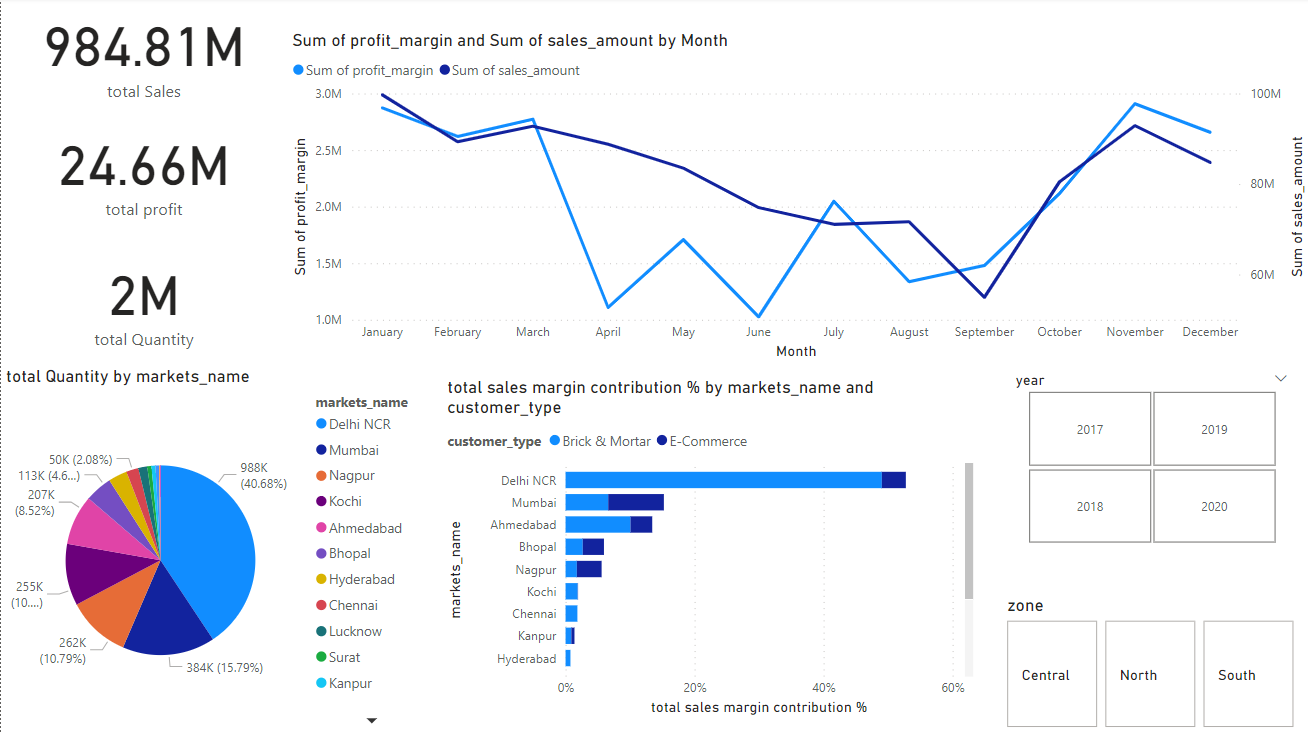

The page's visual inventory and layout, read from the dashboard file:
{"tool":"powerbi","page":{"name":"Basic Analysis","canvas":[1280,720],"ordinal":0},"visuals":[{"type":"card","fields":{"Values":["BaseTable.total Sales"]},"box":[0,0,280,105.7],"z":0},{"type":"card","fields":{"Values":["BaseTable.total Quantity"]},"box":[0,232.9,280,127.1],"z":1000},{"type":"pieChart","fields":{"Category":["sales markets.markets_name"],"Y":["BaseTable.total Quantity"]},"box":[0,360,421.4,360],"z":2000},{"type":"barChart","fields":{"Category":["sales markets.markets_name"],"Series":["sales customers.customer_type"],"Y":["BaseTable.total sales margin contribution %"]},"box":[431.4,371.4,524.3,335.7],"z":3000},{"type":"advancedSlicerVisual","fields":{"Values":["sales markets.zone"]},"box":[978.6,584.3,291.4,135.7],"z":4000},{"type":"slicer","fields":{"Values":["sales date.year"]},"box":[978.6,360,291.4,180],"z":5000},{"type":"lineChart","fields":{"Y":["Sum(sales transactions.profit_margin)"],"Y2":["Sum(sales transactions.sales_amount)"],"Category":["sales date.date.Variation.Date Hierarchy.Year","sales date.date.Variation.Date Hierarchy.Quarter","sales date.date.Variation.Date Hierarchy.Month","sales date.date.Variation.Date Hierarchy.Day"]},"box":[280,0,1000,327.1],"z":6000},{"type":"card","fields":{"Values":["BaseTable.total profit"]},"box":[0,105.7,280,127.1],"z":7000}]}

Visuals, with their boxes in screenshot pixels (x1, y1, x2, y2), scaled from the page's 1280x720 canvas onto the 1308x732 screenshot:
card - BaseTable.total Sales: [0,0,286,107]
card - BaseTable.total Quantity: [0,237,286,366]
pieChart - sales markets.markets_name x BaseTable.total Quantity: [0,366,431,731]
barChart - sales markets.markets_name x sales customers.customer_type: [441,378,977,719]
advancedSlicerVisual - sales markets.zone: [1000,594,1298,731]
slicer - sales date.year: [1000,366,1298,549]
lineChart - Sum(sales transactions.profit_margin) x Sum(sales transactions.sales_amount): [286,0,1307,333]
card - BaseTable.total profit: [0,107,286,237]
